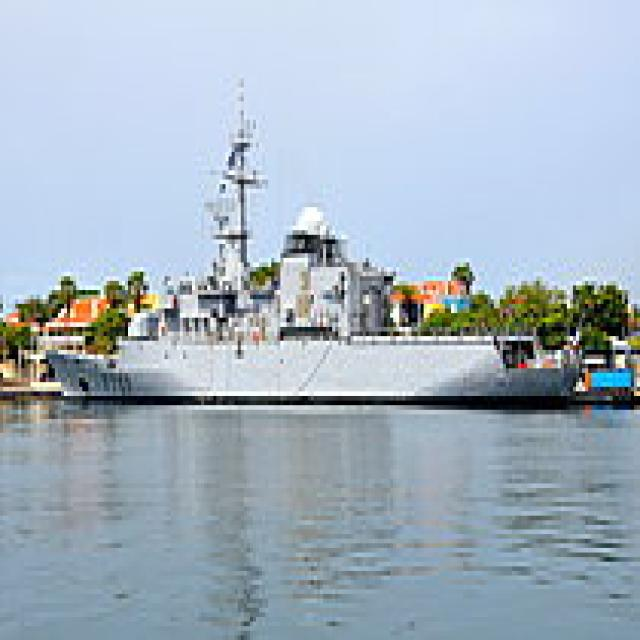Warship: (40, 69, 579, 410)
